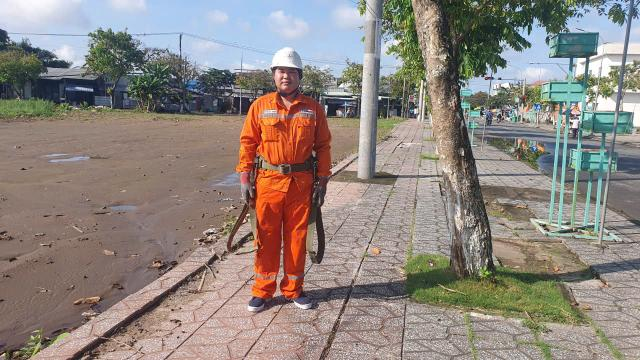gloves: (308, 173, 333, 214), (234, 170, 254, 206)
harness: (247, 146, 321, 179)
helmet: (268, 42, 307, 76)
shoes: (242, 277, 276, 314), (278, 287, 318, 314)
